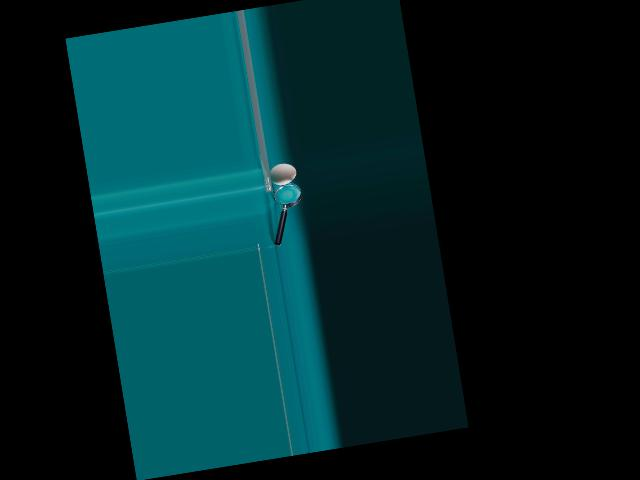egg: (268, 161, 297, 186)
